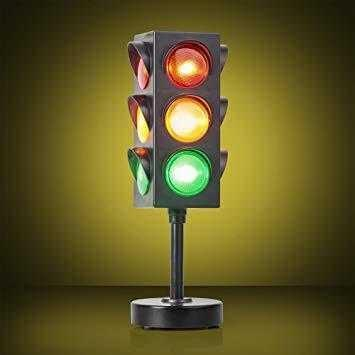5: (162, 36, 216, 94)
9: (167, 94, 216, 147)
red traffic light: (163, 150, 217, 202)
